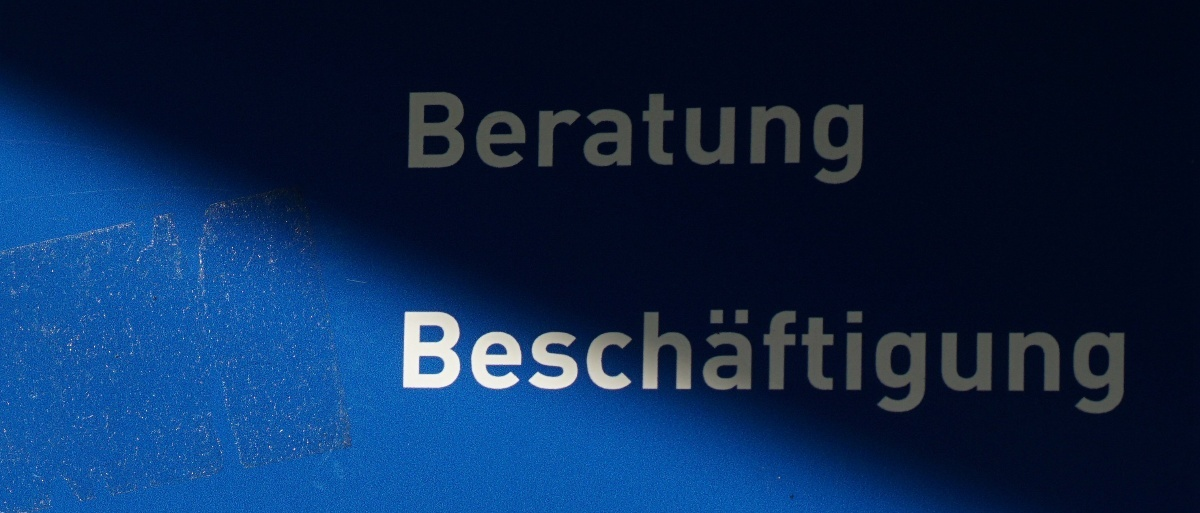text: (417, 310, 432, 418), (433, 310, 448, 418), (449, 310, 464, 418), (465, 310, 480, 418), (481, 310, 496, 418), (497, 310, 512, 418), (513, 310, 528, 418), (529, 310, 544, 418), (545, 310, 560, 418), (561, 310, 576, 418), (577, 310, 592, 418), (593, 310, 608, 418), (609, 310, 624, 418), (625, 310, 640, 418), (641, 310, 656, 418), (657, 310, 672, 418), (673, 310, 688, 418), (689, 310, 704, 418), (705, 310, 720, 418), (721, 310, 736, 418), (737, 310, 752, 418), (753, 310, 768, 418), (769, 310, 784, 418), (785, 310, 800, 418), (801, 310, 816, 418), (817, 310, 832, 418), (833, 310, 848, 418), (849, 310, 864, 418), (865, 310, 880, 418), (881, 310, 896, 418), (897, 310, 912, 418), (913, 310, 928, 418), (929, 310, 944, 418), (945, 310, 960, 418), (961, 310, 976, 418), (977, 310, 992, 418), (993, 310, 1008, 418), (1009, 310, 1024, 418), (1025, 310, 1040, 418), (1041, 310, 1056, 418), (1057, 310, 1072, 418), (1073, 310, 1088, 418), (1089, 310, 1104, 418), (1105, 310, 1120, 418), (417, 92, 432, 186), (433, 92, 448, 186), (449, 92, 464, 186), (465, 92, 480, 186), (481, 92, 496, 186), (497, 92, 512, 186), (513, 92, 528, 186), (529, 92, 544, 186), (545, 92, 560, 186), (561, 92, 576, 186), (577, 92, 592, 186), (593, 92, 608, 186), (609, 92, 624, 186), (625, 92, 640, 186), (641, 92, 656, 186), (657, 92, 672, 186), (673, 92, 688, 186), (689, 92, 704, 186), (705, 92, 720, 186), (721, 92, 736, 186), (737, 92, 752, 186), (753, 92, 768, 186), (769, 92, 784, 186), (785, 92, 800, 186), (801, 92, 816, 186), (817, 92, 832, 186), (833, 92, 848, 186), (849, 92, 864, 186), (403, 310, 416, 418), (408, 92, 416, 186), (1121, 310, 1127, 418), (865, 92, 869, 186)
